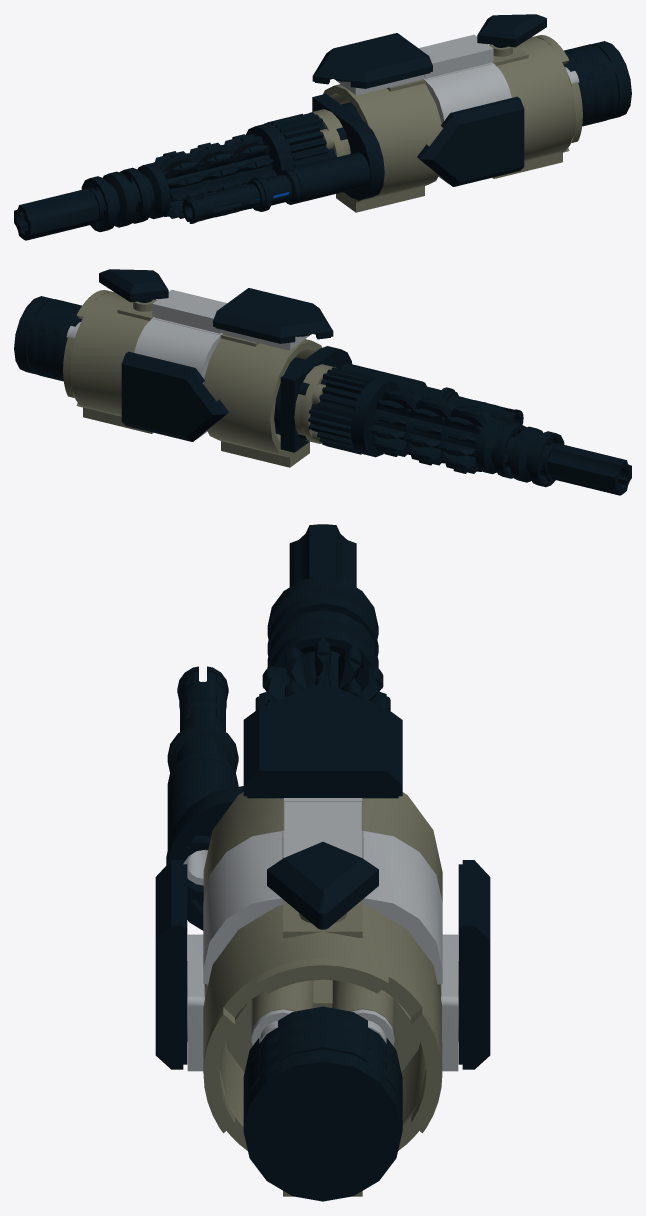
The model's file is BaseWeapon-Left.fbx.
3 renders of one model, top to bottom at view 1: azimuth 30°, elevation 25°; view 2: azimuth 150°, elevation 25°; view 3: azimuth 270°, elevation 25°, orthographic. The views are drawn at different scales.
Parts seen in each view (by area): view 1: BW-Brick-35, BW-Brick-05, BW-Brick-08, BW-Brick-20, BW-Brick-23, BW-Brick-03, BW-Brick-30, BW-Brick-19, BW-Brick-24, BW-Brick-33, BW-Brick-26, BW-Brick-25 (+11 smaller); view 2: BW-Brick-35, BW-Brick-06, BW-Brick-08, BW-Brick-33, BW-Brick-23, BW-Brick-04, BW-Brick-30, BW-Brick-26, BW-Brick-27, BW-Brick-28, BW-Brick-24, BW-Brick-25 (+12 smaller); view 3: BW-Brick-35, BW-Brick-12, BW-Brick-08, BW-Brick-05, BW-Brick-06, BW-Brick-04, BW-Brick-03, BW-Brick-07, BW-Brick-20, BW-Brick-26, BW-Brick-24, BW-Brick-00 (+9 smaller).
Boxes of the visible parts, x1,y1,x2,y2 form: BW-Brick-35: (323,35,582,212); BW-Brick-05: (417,96,524,186); BW-Brick-08: (312,33,432,88); BW-Brick-20: (182,169,300,223); BW-Brick-23: (14,188,98,240); BW-Brick-03: (425,63,511,128); BW-Brick-30: (312,94,384,200); BW-Brick-19: (289,152,370,203); BW-Brick-24: (81,171,135,232); BW-Brick-33: (264,112,336,167); BW-Brick-26: (152,151,207,218); BW-Brick-25: (119,163,170,223); BW-Brick-35: (63,290,322,467); BW-Brick-06: (121,351,228,441); BW-Brick-08: (213,288,333,343); BW-Brick-33: (308,367,381,454); BW-Brick-23: (547,443,631,495); BW-Brick-04: (134,318,220,383); BW-Brick-30: (280,346,352,452); BW-Brick-26: (438,406,493,473); BW-Brick-27: (403,397,456,465); BW-Brick-28: (369,389,421,456); BW-Brick-24: (510,426,564,487); BW-Brick-25: (475,418,526,478); BW-Brick-35: (203,792,442,1196); BW-Brick-12: (243,1049,402,1201); BW-Brick-08: (243,682,402,798); BW-Brick-05: (155,860,187,1069); BW-Brick-06: (458,860,490,1069); BW-Brick-04: (363,831,442,983); BW-Brick-03: (203,831,282,983); BW-Brick-07: (267,842,378,929); BW-Brick-20: (167,666,238,788); BW-Brick-26: (255,637,390,710); BW-Brick-24: (267,576,378,655); BW-Brick-00: (284,801,361,857).
Size of the model in its own units: 1362 by 320 by 335.
